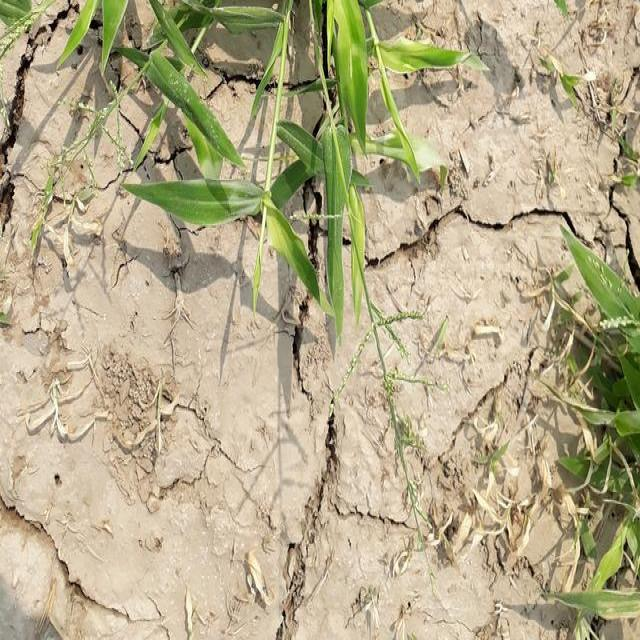weed: (139, 0, 429, 287)
